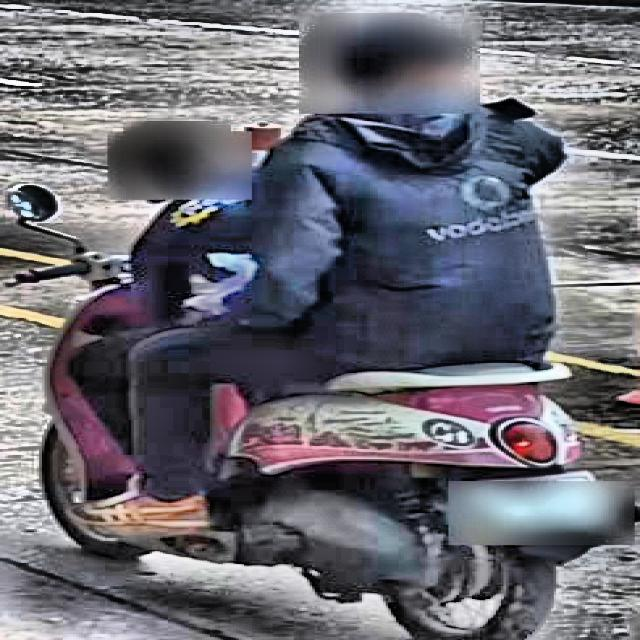motorcycle: (0, 169, 601, 640)
